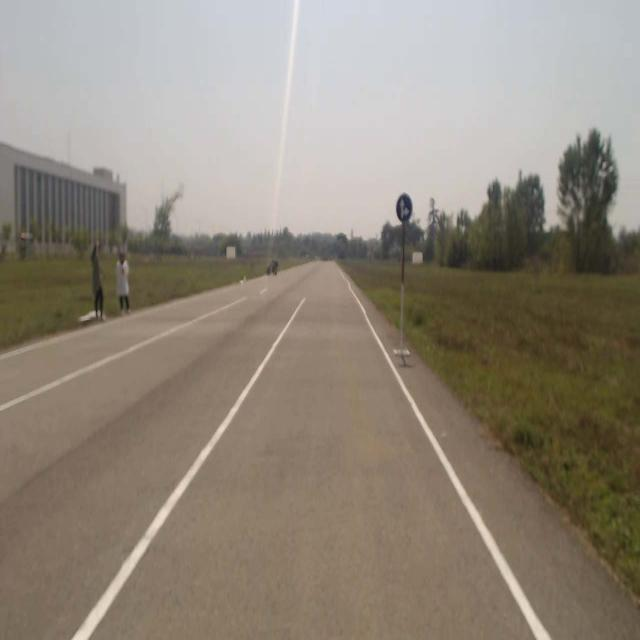ilerisag: (397, 194, 412, 221)
